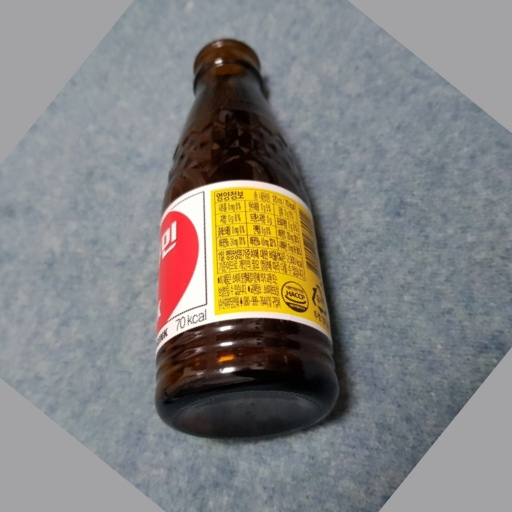Glass_3: (149, 37, 338, 435)
